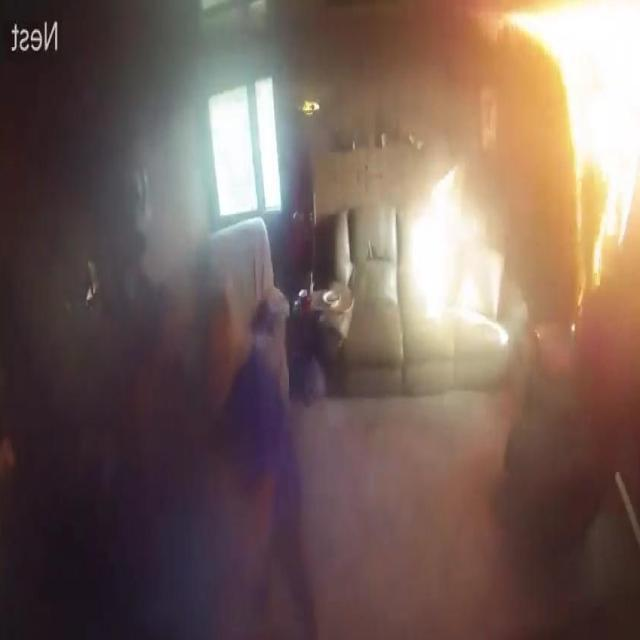smoke: (497, 2, 640, 310)
